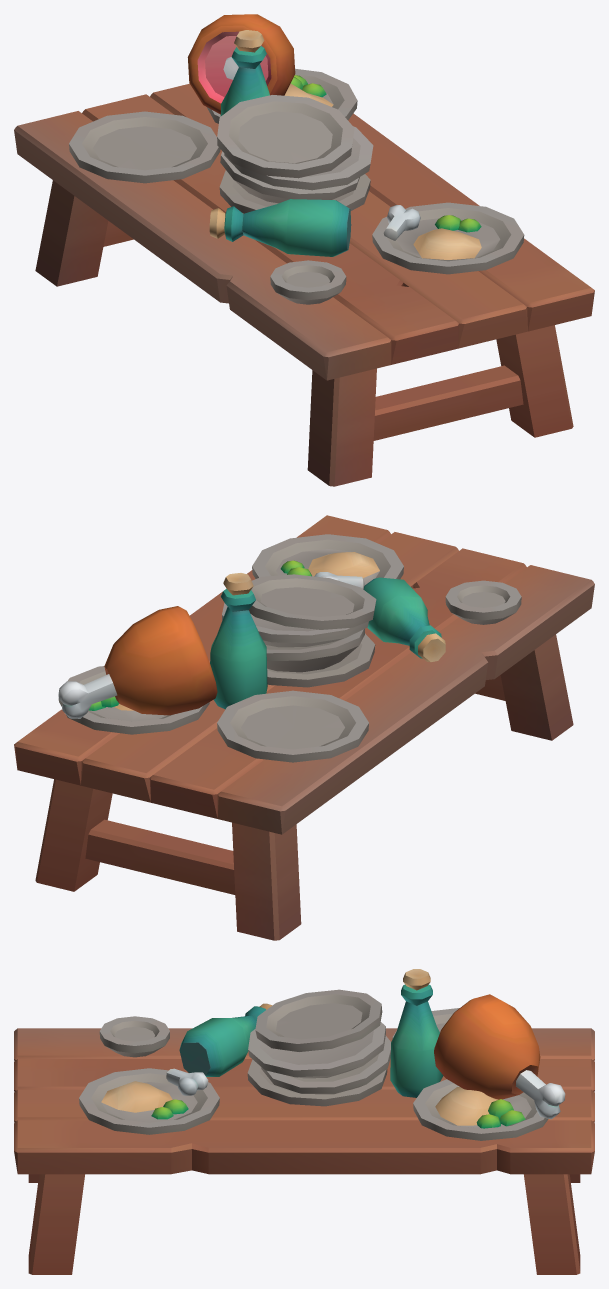
Rendered from kay-mesa-banquete.gltf.
3 renders of one model, top to bottom at view 1: azimuth 30°, elevation 25°; view 2: azimuth 150°, elevation 25°; view 3: azimuth 270°, elevation 25°, orthographic. The views are drawn at different scales.
Parts seen in each view (by area): view 1: table_long_decorated_A; view 2: table_long_decorated_A; view 3: table_long_decorated_A.
Part boxes in pixels (x1,y1,x2,y2): table_long_decorated_A: (14, 14, 594, 486); table_long_decorated_A: (14, 515, 594, 940); table_long_decorated_A: (14, 969, 594, 1274).
Bounding box in the file's own units: 1.34 × 1.23 × 2.6.
1 material, 1 textured.
